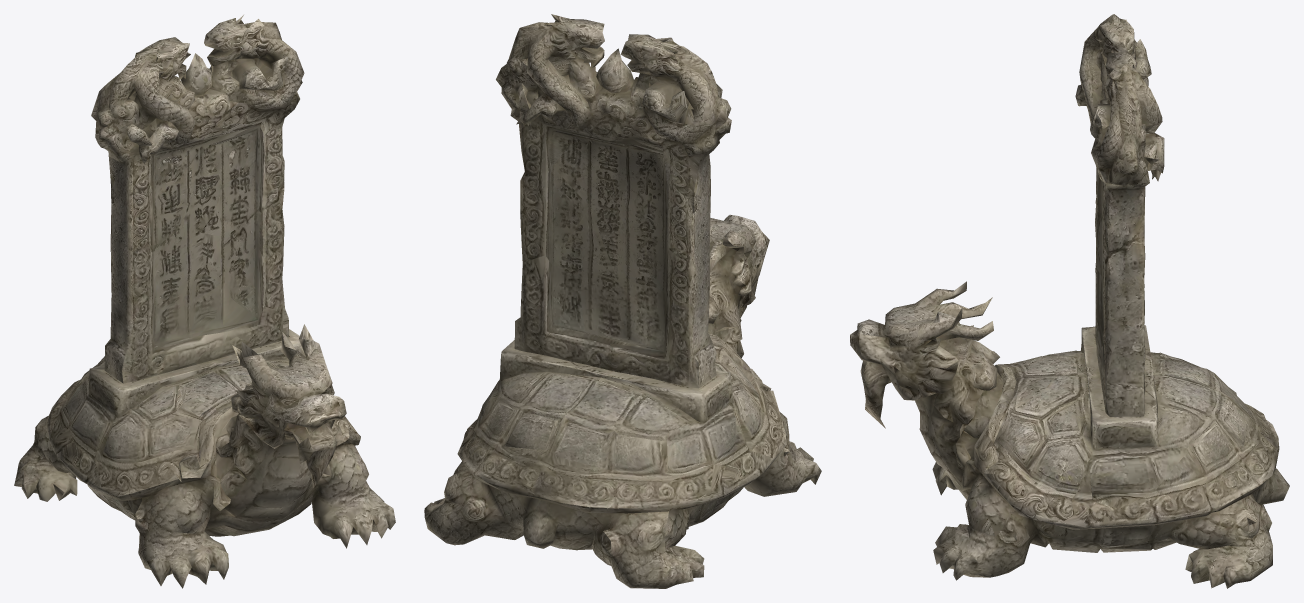
File: prop_stele.7aff7cf1.glb
The picture shows the model from 3 angles, left to right: view 1: azimuth 30°, elevation 25°; view 2: azimuth 150°, elevation 25°; view 3: azimuth 270°, elevation 25°; orthographic projection. The views are drawn at different scales.
Visible parts, largest first — view 1: tripo_node_5d1365d2-4ddd-4600-8dfb-938c45f8ff8f; view 2: tripo_node_5d1365d2-4ddd-4600-8dfb-938c45f8ff8f; view 3: tripo_node_5d1365d2-4ddd-4600-8dfb-938c45f8ff8f.
Part boxes in pixels (left/top/right/bottom): tripo_node_5d1365d2-4ddd-4600-8dfb-938c45f8ff8f: left=14, top=15, right=395, bottom=588; tripo_node_5d1365d2-4ddd-4600-8dfb-938c45f8ff8f: left=424, top=14, right=821, bottom=588; tripo_node_5d1365d2-4ddd-4600-8dfb-938c45f8ff8f: left=850, top=14, right=1289, bottom=588.
Bounding box in the file's own units: 2.29 × 3.94 × 3.24.
1 material, 1 textured.
